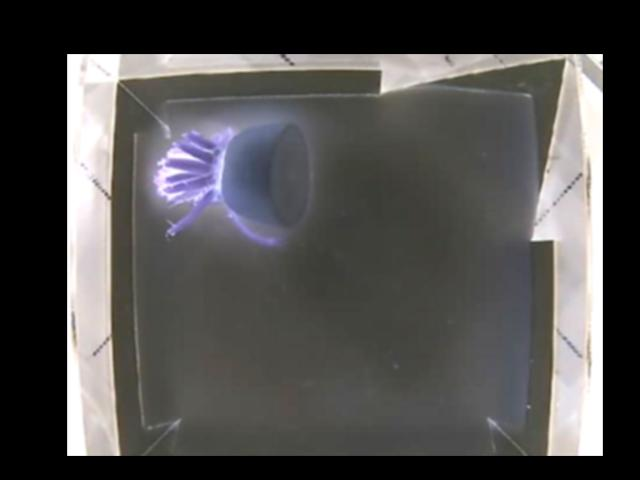Mooli: (156, 120, 309, 245)
